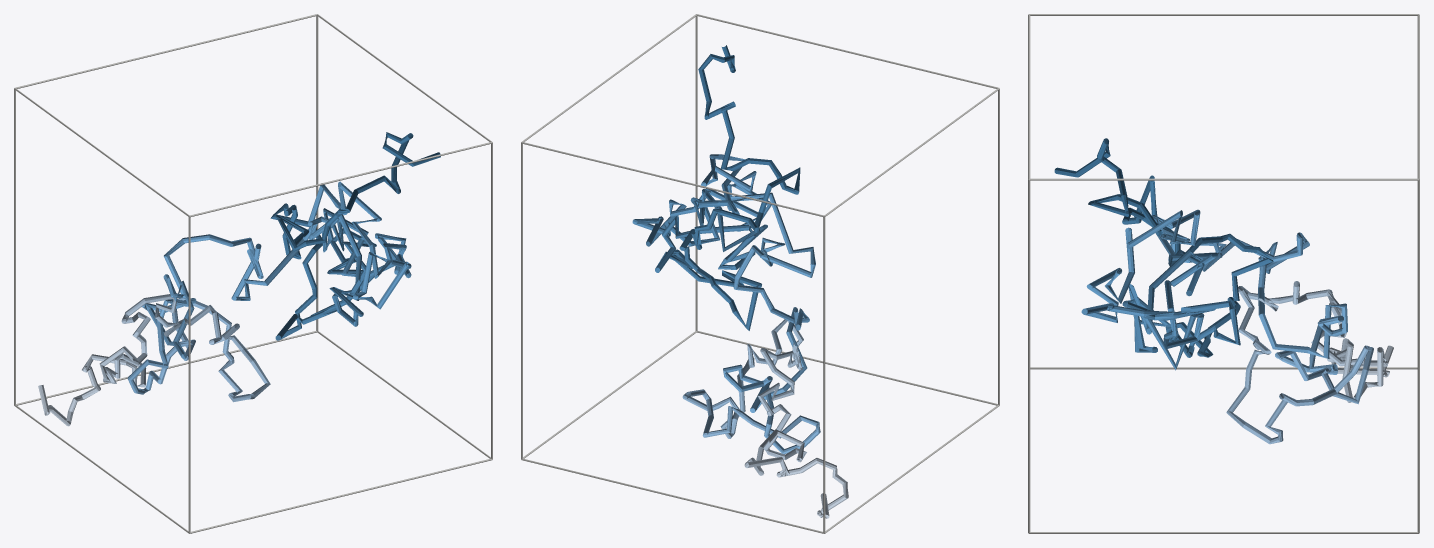
3 views of the same model, side by side, from view 1: azimuth 30°, elevation 25°; view 2: azimuth 150°, elevation 25°; view 3: azimuth 270°, elevation 25° (orthographic). The views are drawn at different scales.
Visible parts, largest first — view 1: geometry_0, geometry_1; view 2: geometry_0, geometry_1; view 3: geometry_0, geometry_1.
Part boxes in pixels (x1,y1,x2,y2): geometry_0: (38,132,440,426); geometry_1: (14,14,492,533); geometry_0: (632,45,848,518); geometry_1: (521,14,999,533); geometry_0: (1054,138,1393,444); geometry_1: (1028,14,1419,533).
Size of the model in its own units: 0.3016 by 0.3032 by 0.3016.
